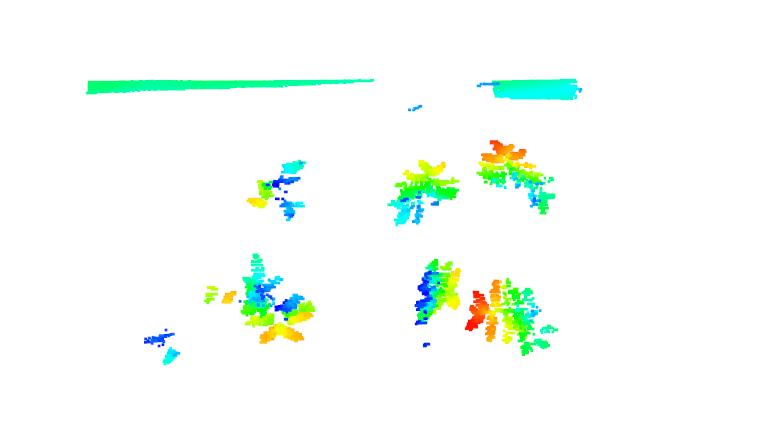chickpea: (203, 253, 315, 347), (462, 279, 558, 358), (474, 139, 561, 218), (385, 157, 462, 230), (248, 159, 312, 222), (413, 258, 461, 339)
